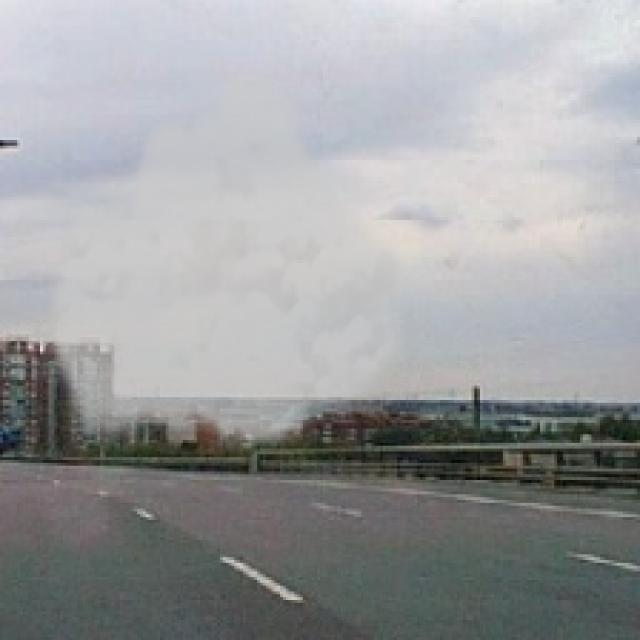Smoke: (42, 62, 418, 452)
